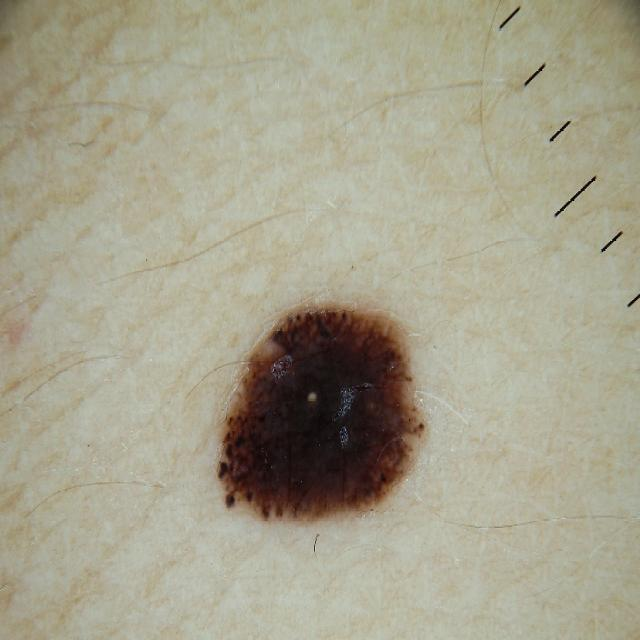Melanoma: (198, 246, 483, 589)
